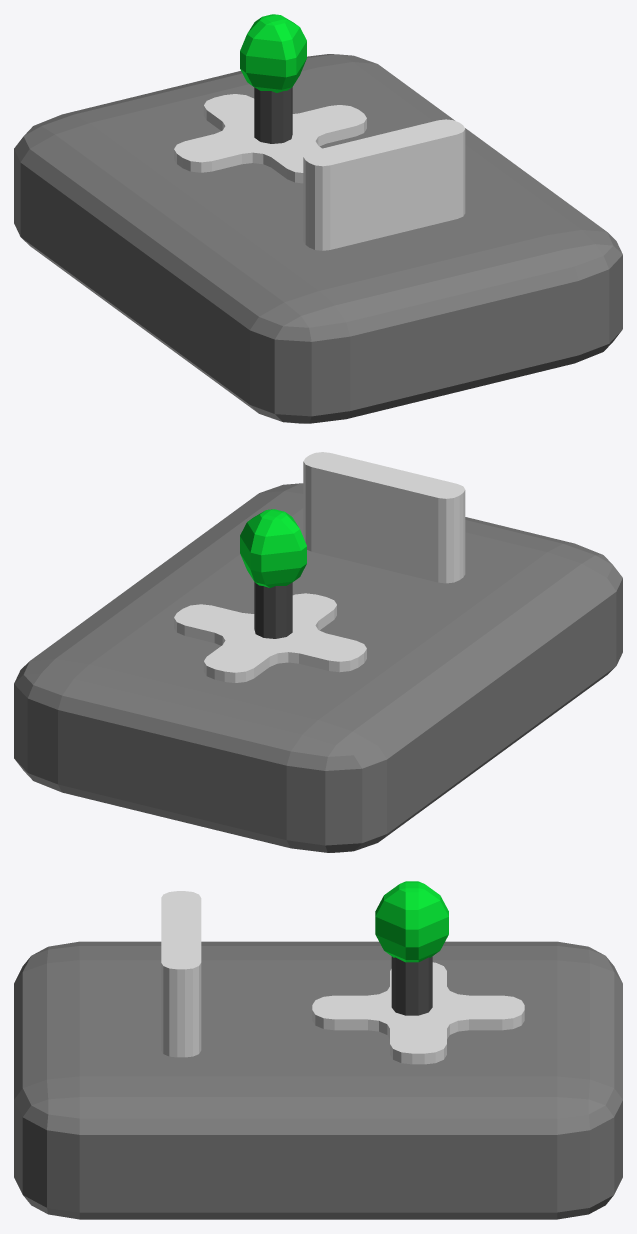
Rendered from controlSticks.fbx.
3 renders of one model, top to bottom at view 1: azimuth 30°, elevation 25°; view 2: azimuth 150°, elevation 25°; view 3: azimuth 270°, elevation 25°, orthographic. The views are drawn at different scales.
Parts seen in each view (by area): view 1: Cube, Cube.002, Cube.001, Cylinder; view 2: Cube, Cube.002, Cube.001, Cylinder; view 3: Cube, Cube.001, Cylinder, Cube.002.
Boxes of the visible parts, x1,y1,x2,y2 form: Cube: (14,54,622,423); Cube.002: (303,119,465,250); Cube.001: (174,94,366,183); Cylinder: (240,14,306,143); Cube: (14,483,622,852); Cube.002: (303,452,465,583); Cube.001: (174,593,366,682); Cylinder: (240,509,306,638); Cube: (14,941,622,1219); Cube.001: (312,962,524,1064); Cylinder: (375,881,448,1015); Cube.002: (161,891,201,1057).
Size of the model in its own units: 321 by 207 by 444.
